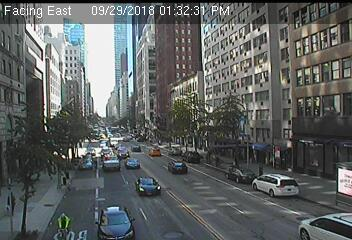car: (96, 206, 137, 240), (252, 173, 299, 199), (225, 166, 257, 184), (135, 176, 161, 195), (102, 154, 120, 171), (168, 161, 188, 175), (183, 151, 200, 164), (124, 157, 141, 169), (79, 159, 94, 170), (148, 146, 161, 157), (168, 147, 182, 157), (131, 145, 141, 152)
